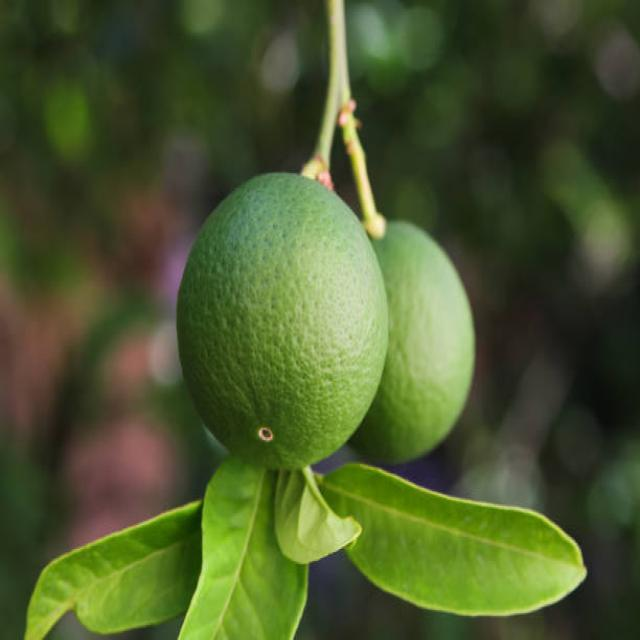Unripe: (174, 167, 388, 470)
